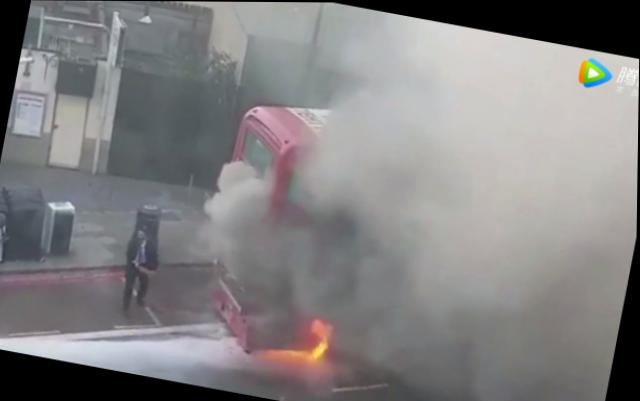fire: (309, 334, 331, 360)
